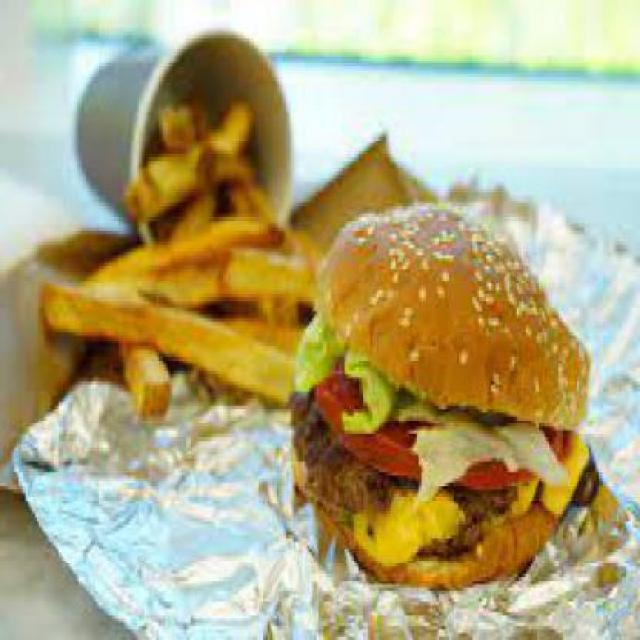french fries: (33, 17, 325, 423)
hamburger: (286, 192, 608, 605)
